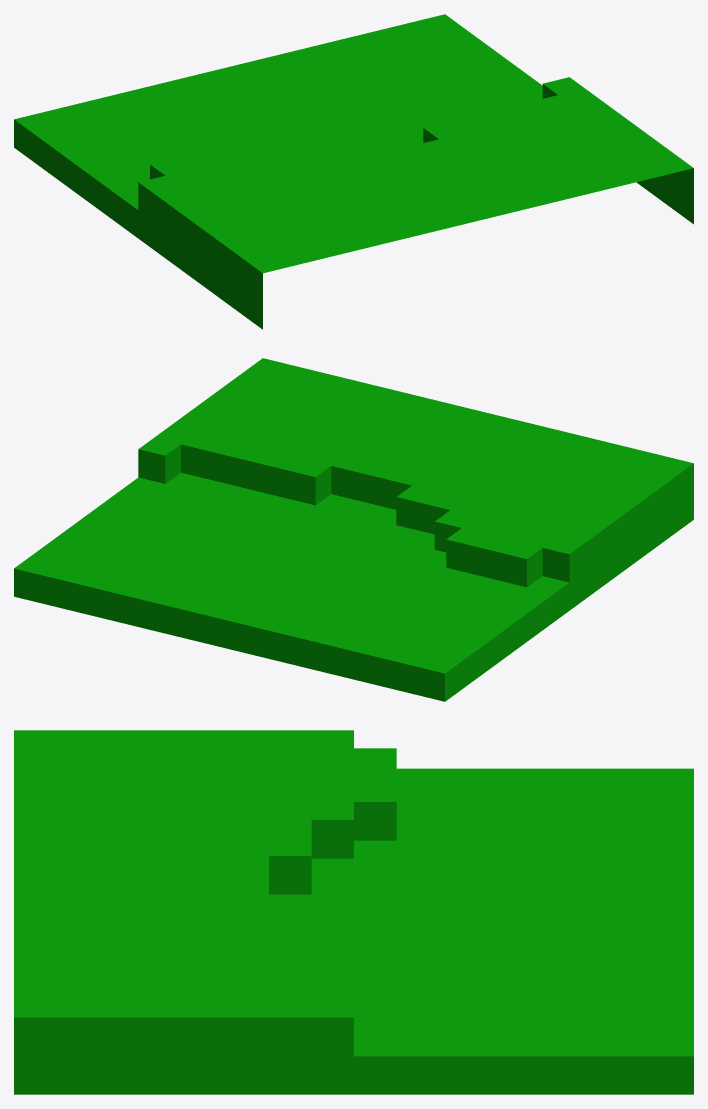
The model's file is Straight4.fbx.
3 renders of one model, top to bottom at view 1: azimuth 30°, elevation 25°; view 2: azimuth 150°, elevation 25°; view 3: azimuth 270°, elevation 25°, orthographic. The views are drawn at different scales.
Visible parts, largest first — view 1: Matrix; view 2: Matrix; view 3: Matrix.
Boxes of the visible parts, bbox=[...] form: Matrix: bbox=[14, 14, 693, 329]; Matrix: bbox=[14, 358, 693, 701]; Matrix: bbox=[14, 730, 693, 1094].
Size of the model in its own units: 16 by 2 by 16.
Materials: 1 (1 with a texture image).
